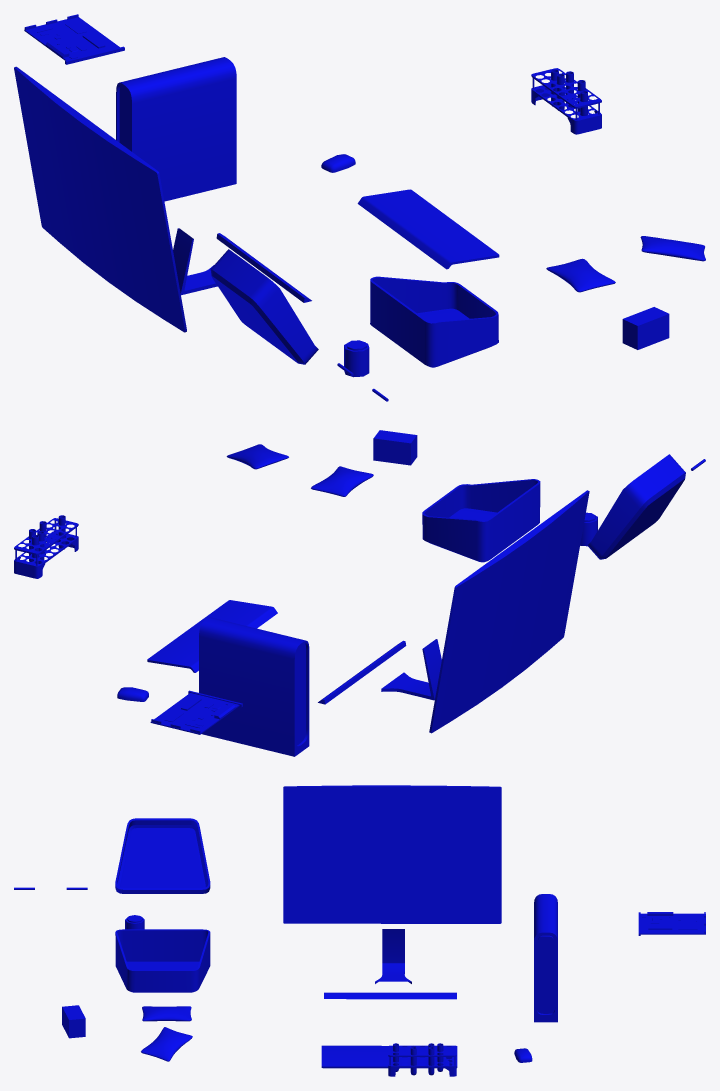
Rendered from Clutter_Low_EXP.FBX.
3 views of the same model, one above another, from view 1: azimuth 30°, elevation 25°; view 2: azimuth 150°, elevation 25°; view 3: azimuth 270°, elevation 25° (orthographic). The views are drawn at different scales.
Visible parts, largest first — view 1: Clutter_Low_EXP; view 2: Clutter_Low_EXP; view 3: Clutter_Low_EXP.
Boxes of the visible parts, bbox=[...] form: Clutter_Low_EXP: bbox=[14, 14, 705, 401]; Clutter_Low_EXP: bbox=[14, 430, 705, 756]; Clutter_Low_EXP: bbox=[14, 785, 705, 1076].
Size of the model in its own units: 33.01 by 11.71 by 50.23.
